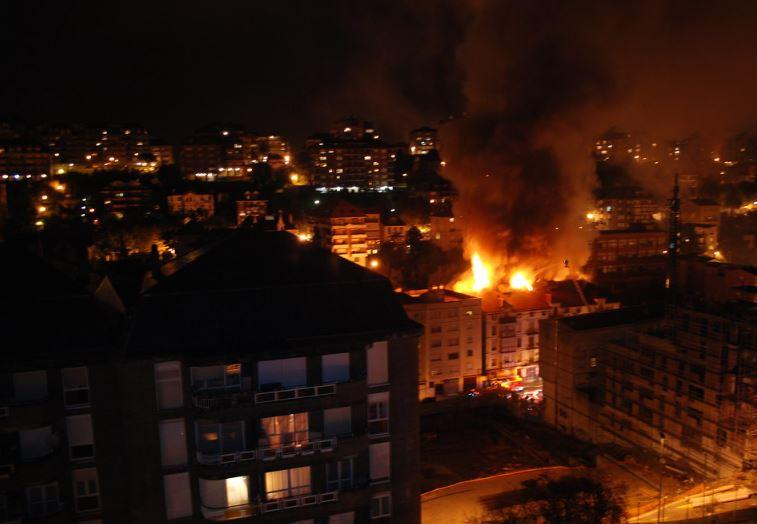Fire: (455, 251, 541, 296)
